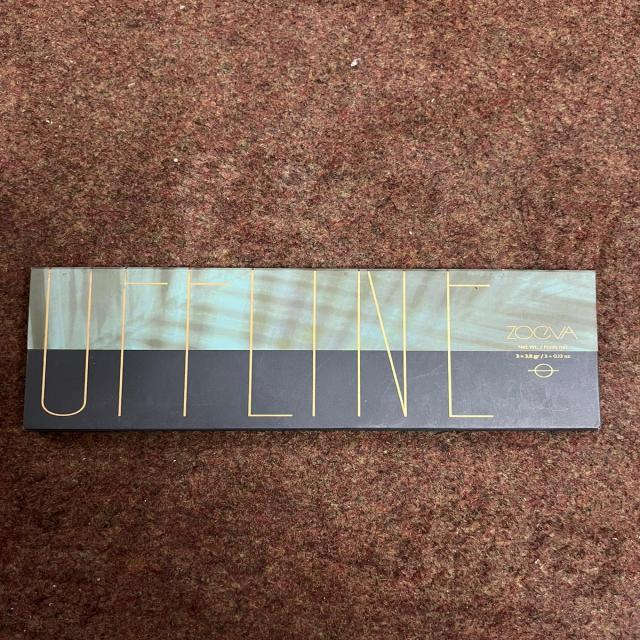makeup: (14, 235, 616, 464)
